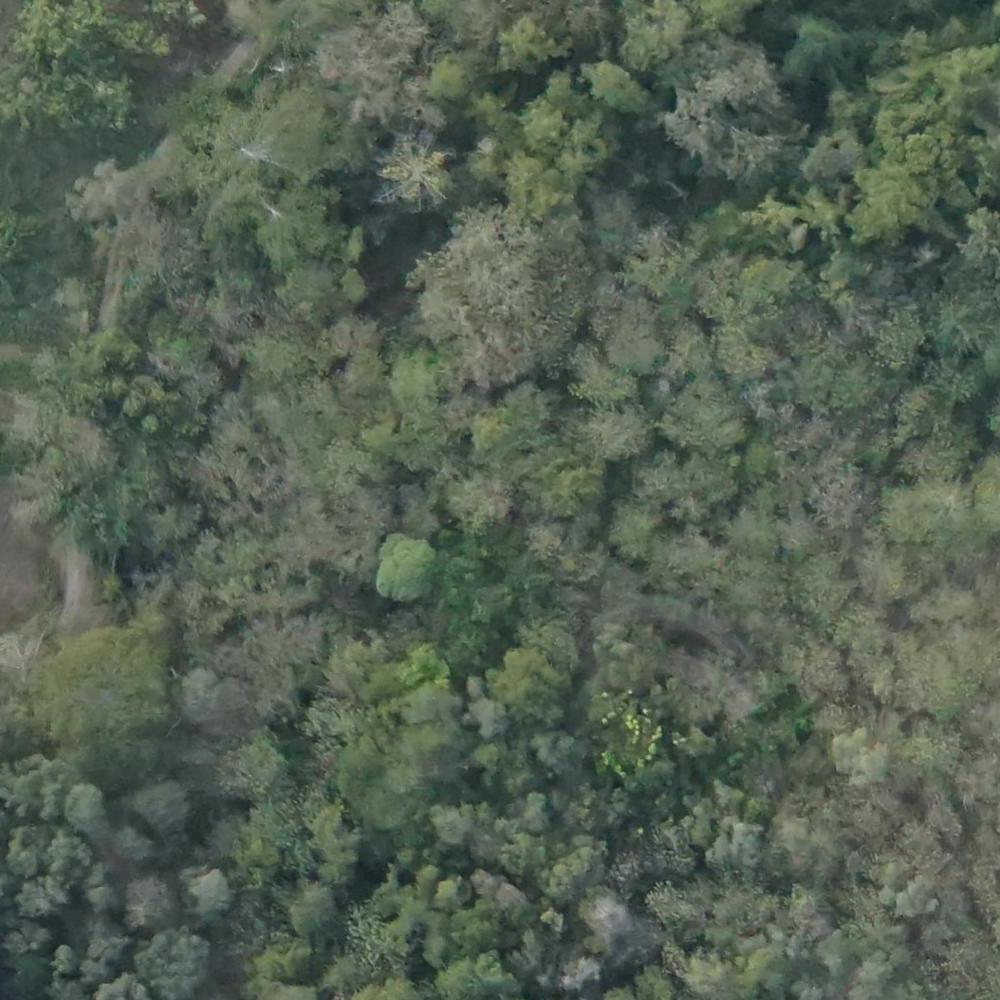tree: (415, 218, 572, 369), (44, 632, 165, 768), (493, 645, 560, 723), (537, 457, 605, 530), (373, 533, 443, 597), (666, 384, 736, 443), (387, 145, 452, 206), (865, 536, 925, 602), (140, 935, 207, 992), (583, 57, 647, 115), (803, 119, 862, 178), (906, 660, 961, 721), (455, 473, 509, 533), (382, 416, 436, 475), (591, 409, 652, 461), (824, 732, 885, 784), (664, 527, 715, 589), (219, 741, 274, 798), (883, 869, 941, 921), (609, 498, 661, 554), (869, 311, 925, 362), (611, 323, 664, 375), (139, 786, 190, 838), (180, 872, 234, 920), (475, 406, 524, 458), (511, 156, 558, 210), (183, 668, 233, 717), (936, 296, 979, 350), (523, 94, 565, 149), (78, 327, 130, 371), (638, 454, 688, 499), (801, 189, 845, 240), (727, 510, 771, 556), (282, 887, 328, 929), (425, 57, 467, 101), (912, 730, 956, 771), (494, 18, 541, 54), (118, 382, 153, 425), (68, 788, 104, 829), (436, 803, 466, 843), (541, 731, 573, 768)
